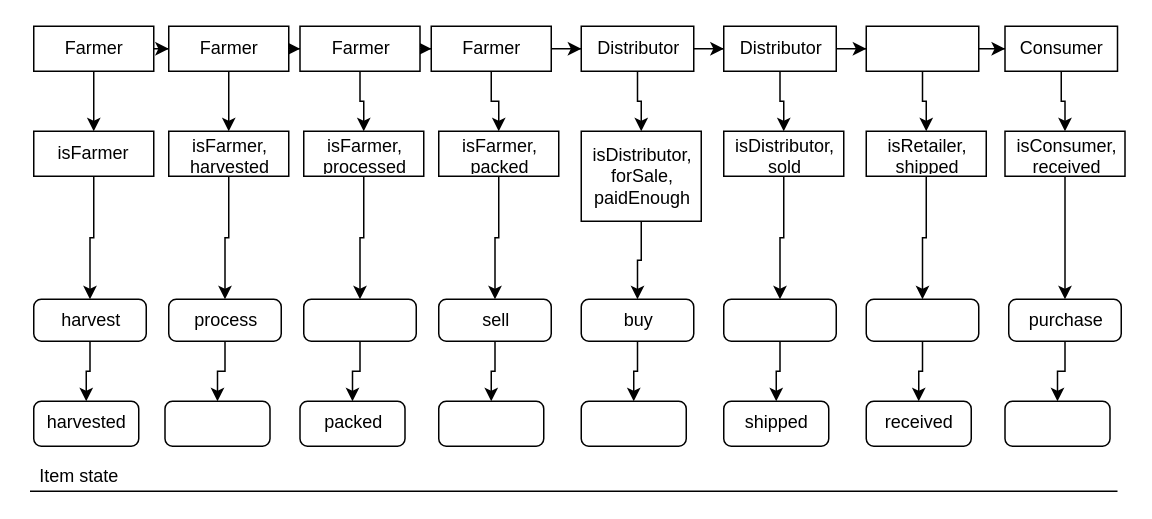
Image size: 1152x519. Some labels were removed from this diagram. The shapes that lost their labels are listed below. From the top down, each one's box as (x1, y1, x2, y2) in pixels, then its label:
(865, 25, 979, 71): Retailer
(302, 298, 416, 341): pack
(722, 298, 836, 341): ship
(865, 298, 979, 341): receive
(164, 400, 270, 446): processed
(437, 400, 544, 446): forSale
(580, 400, 686, 446): sold
(1004, 400, 1110, 446): purchased
